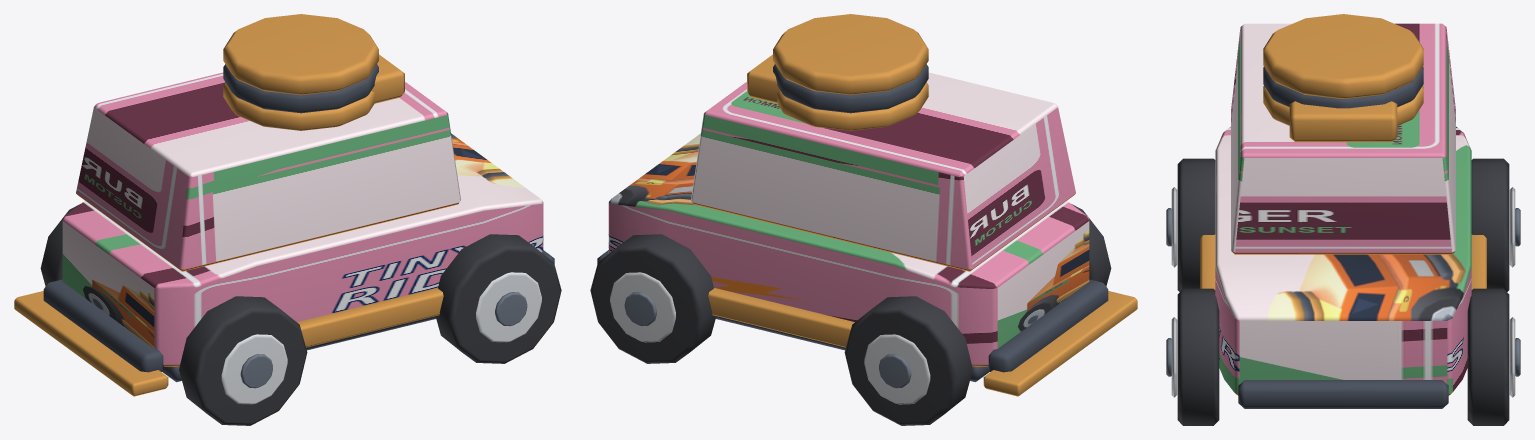
The picture shows the model from 3 angles, left to right: view 1: azimuth 30°, elevation 25°; view 2: azimuth 150°, elevation 25°; view 3: azimuth 270°, elevation 25°; orthographic projection. The views are drawn at different scales.
Parts seen in each view (by area): view 1: SS-03_cabin, SS-03_connected_shell, burger layer.002, Tire, Tire.002, custom chin, custom side guard, front bumper, burger layer.001, Rim, Rim.002, burger layer (+5 smaller); view 2: SS-03_cabin, SS-03_connected_shell, burger layer.002, Tire.001, Tire.003, custom chin, custom side guard.001, front bumper, burger layer.001, Rim.001, Rim.003, burger layer (+5 smaller); view 3: SS-03_connected_shell, SS-03_cabin, burger layer.002, rear bumper, Tire.002, Tire.003, Tire, Tire.001, custom equipment, burger layer.001, burger layer, custom side guard (+5 smaller).
Part boxes in pixels (x1,y1,x2,y2): SS-03_cabin: (76, 72, 460, 271); SS-03_connected_shell: (62, 133, 543, 366); burger layer.002: (223, 14, 378, 95); Tire: (179, 296, 307, 425); Tire.002: (435, 234, 561, 363); custom chin: (14, 291, 168, 396); custom side guard: (297, 288, 443, 347); front bumper: (43, 279, 163, 372); burger layer.001: (223, 64, 378, 113); Rim: (221, 334, 287, 404); Rim.002: (476, 272, 541, 342); burger layer: (223, 82, 374, 130); SS-03_cabin: (691, 72, 1075, 271); SS-03_connected_shell: (608, 133, 1089, 366); burger layer.002: (773, 14, 928, 95); Tire.001: (844, 296, 972, 425); Tire.003: (590, 234, 716, 363); custom chin: (983, 291, 1137, 396); custom side guard.001: (708, 288, 854, 347); front bumper: (988, 279, 1108, 372); burger layer.001: (773, 64, 928, 113); Rim.001: (864, 334, 930, 404); Rim.003: (610, 272, 675, 342); burger layer: (777, 82, 928, 130); SS-03_connected_shell: (1215, 126, 1471, 395); SS-03_cabin: (1231, 23, 1455, 254); burger layer.002: (1263, 14, 1423, 98); rear bumper: (1238, 380, 1448, 408); Tire.002: (1177, 288, 1219, 425); Tire.003: (1467, 288, 1509, 425); Tire: (1177, 158, 1215, 291); Tire.001: (1471, 158, 1509, 291); custom equipment: (1289, 101, 1397, 142); burger layer.001: (1263, 67, 1423, 108); burger layer: (1263, 85, 1423, 125); custom side guard: (1200, 234, 1215, 289).
Size of the model in its own units: 328 by 213 by 221.
